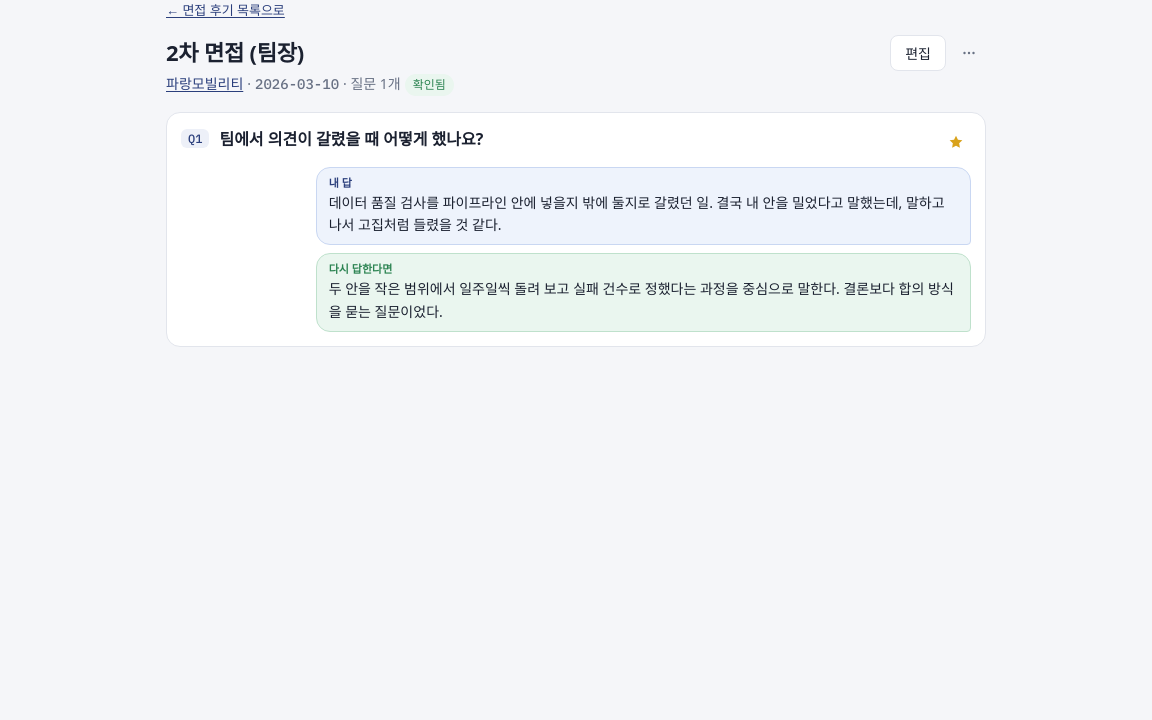
Test: ReviewViewScreen › deletes after confirming
The width and height of the screenshot is (1152, 720).
Click the button named "후기 메뉴" at (969, 53), box [952, 36, 986, 70]
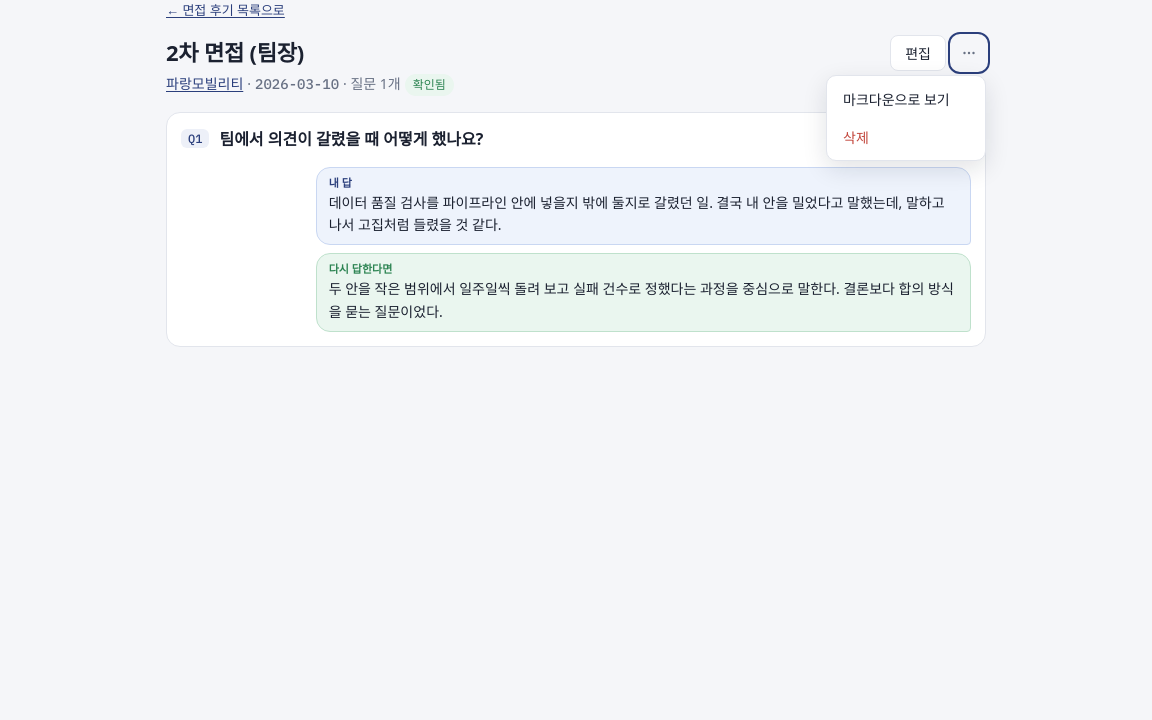
Click the menu item "삭제" at (906, 137), box [831, 118, 981, 156]
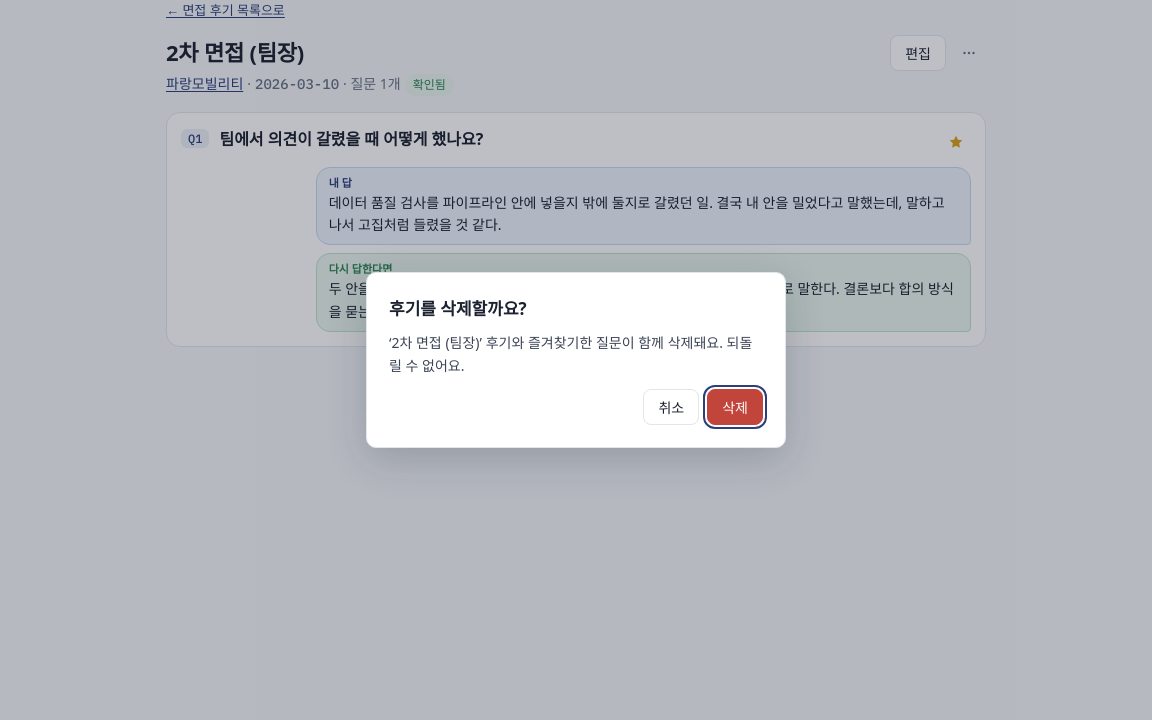
Expected: the dialog shows "‘2차 면접 (팀장)’ 후기와 즐겨찾기한 질문이 함께 삭제돼요. 되돌릴 수 없어요.", [366, 272, 786, 448]
Click the button "삭제" at (735, 407), box [707, 389, 763, 425]
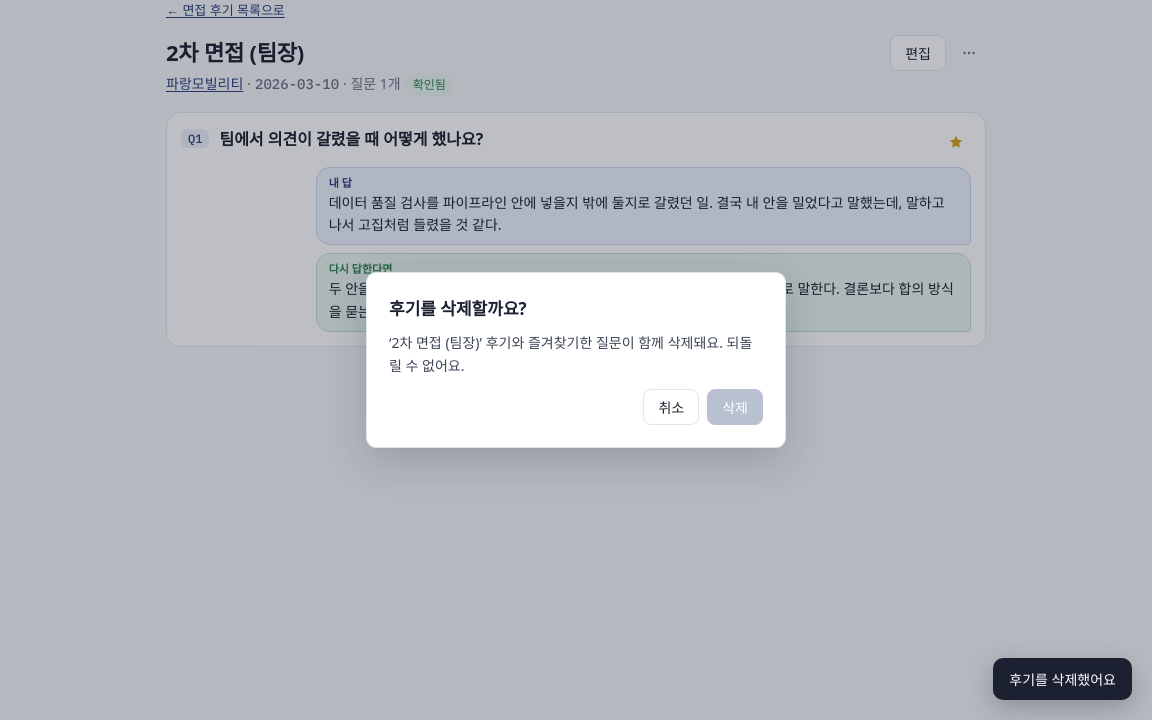
Expected: the text "후기를 삭제했어요" is shown, [993, 658, 1132, 700]
